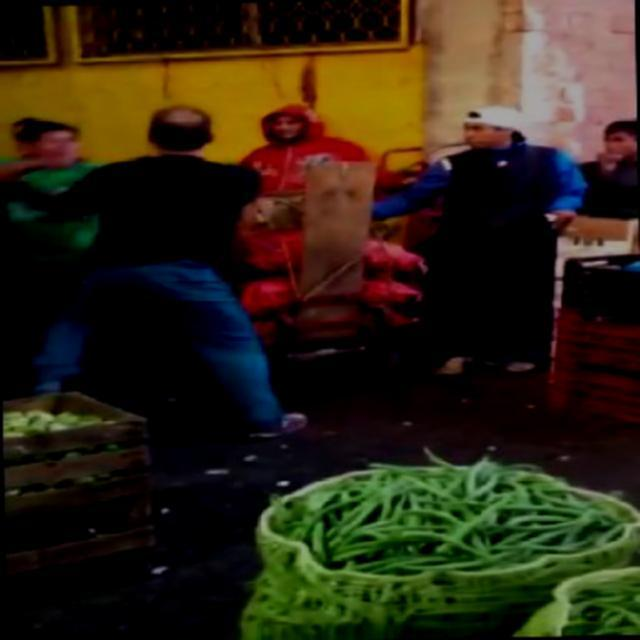fight: (0, 98, 282, 397)
non-fight: (397, 99, 588, 381)
